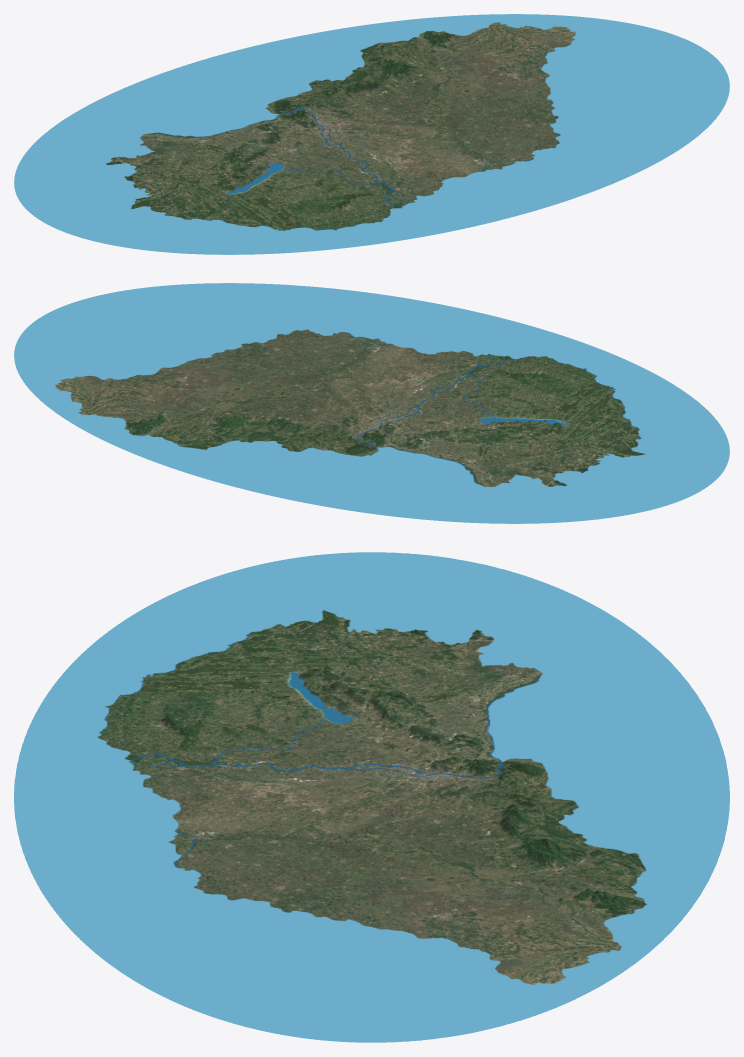
The model's file is HUN-previa-terrain.glb.
3 views of the same model, one above another, from view 1: azimuth 30°, elevation 25°; view 2: azimuth 150°, elevation 25°; view 3: azimuth 270°, elevation 25° (orthographic). The views are drawn at different scales.
Visible parts, largest first — view 1: Hungria; view 2: Hungria; view 3: Hungria.
Boxes of the visible parts, box(x1,y1,x2,y2) form: Hungria: box(14, 14, 729, 254); Hungria: box(14, 283, 729, 523); Hungria: box(14, 552, 729, 1042).
Size of the model in its own units: 2.28 by 0.0281 by 1.41.
1 material, 1 textured.
